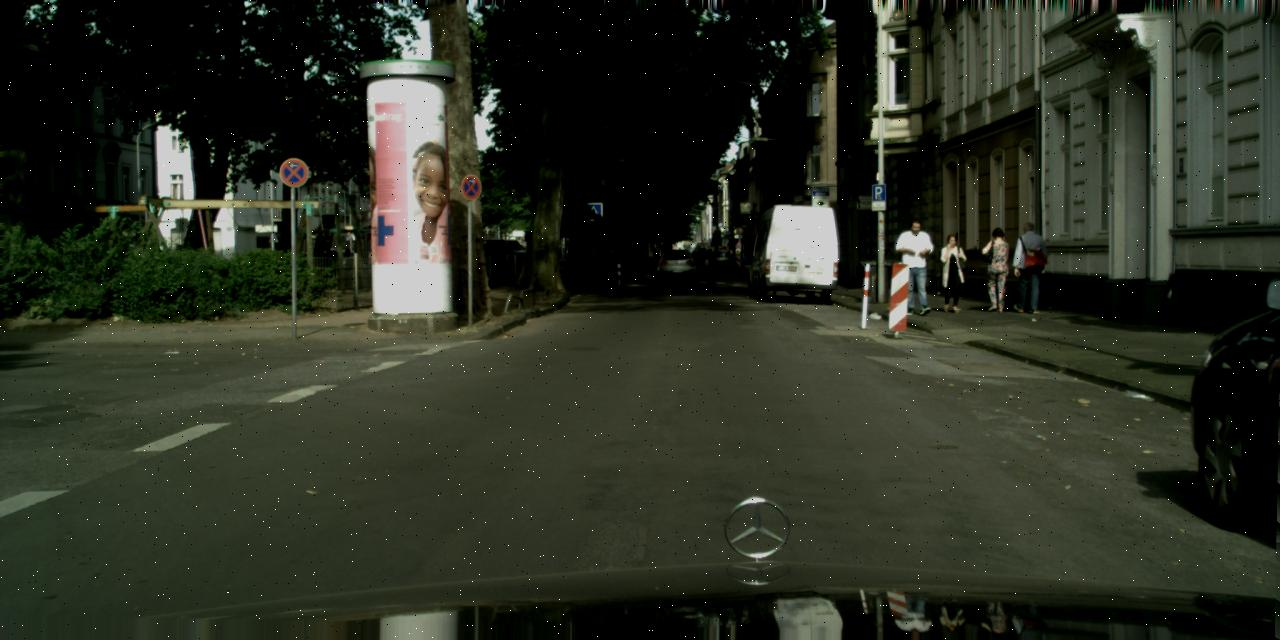ped: (897, 218, 935, 312), (1009, 222, 1045, 311), (980, 228, 1014, 310), (936, 233, 968, 310)
